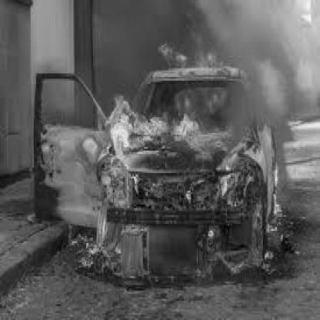Fire: (83, 40, 294, 254)
